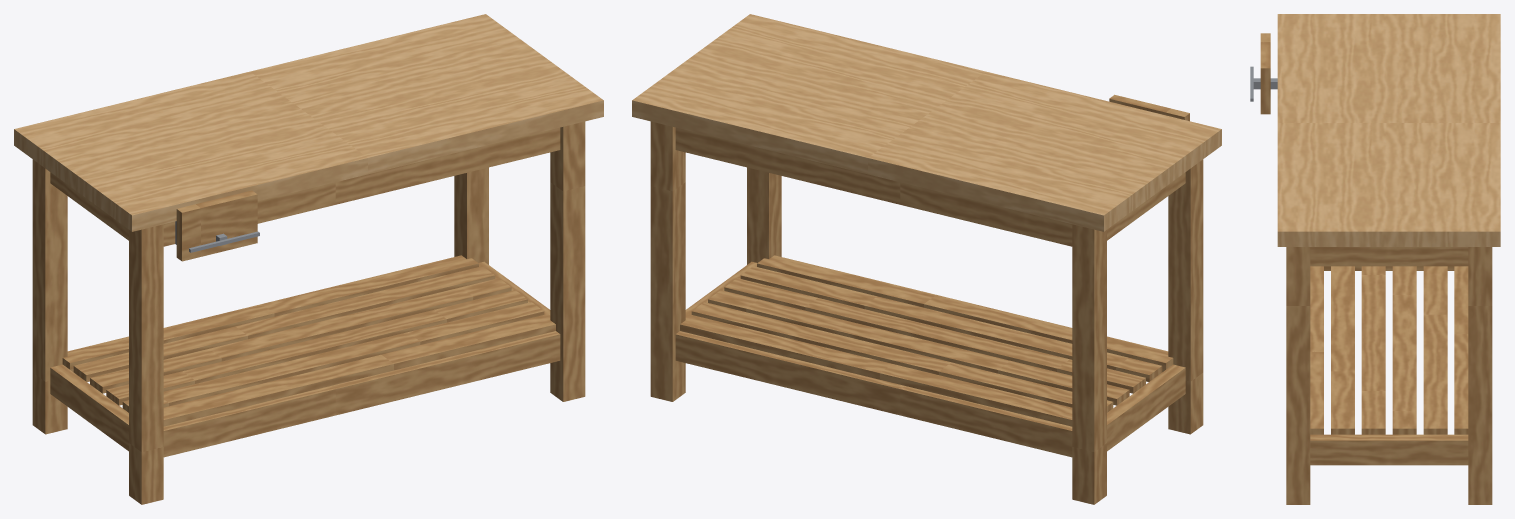
3 views of the same model, side by side, from view 1: azimuth 30°, elevation 25°; view 2: azimuth 150°, elevation 25°; view 3: azimuth 270°, elevation 25° (orthographic). The views are drawn at different scales.
Visible parts, largest first — view 1: Workbench with vice; view 2: Workbench with vice; view 3: Workbench with vice.
Part boxes in pixels (x1,y1,x2,y2): Workbench with vice: (14, 14, 603, 504); Workbench with vice: (632, 14, 1221, 504); Workbench with vice: (1250, 14, 1500, 504).
Bounding box in the file's own units: 1.5 × 0.9 × 0.73.
Materials: 3 (2 with a texture image).
